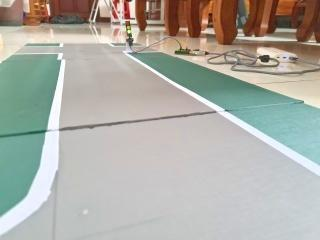green: (123, 13, 135, 39)
